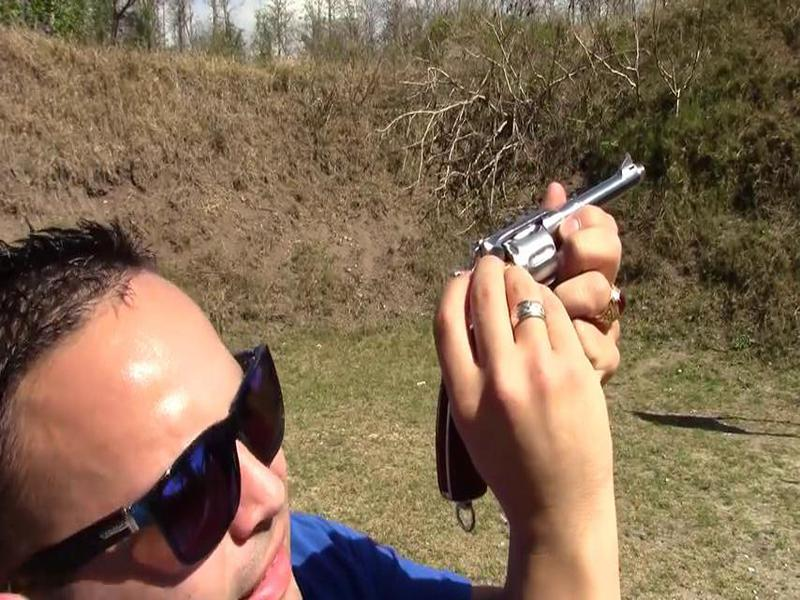Revolver: (418, 142, 655, 504)
